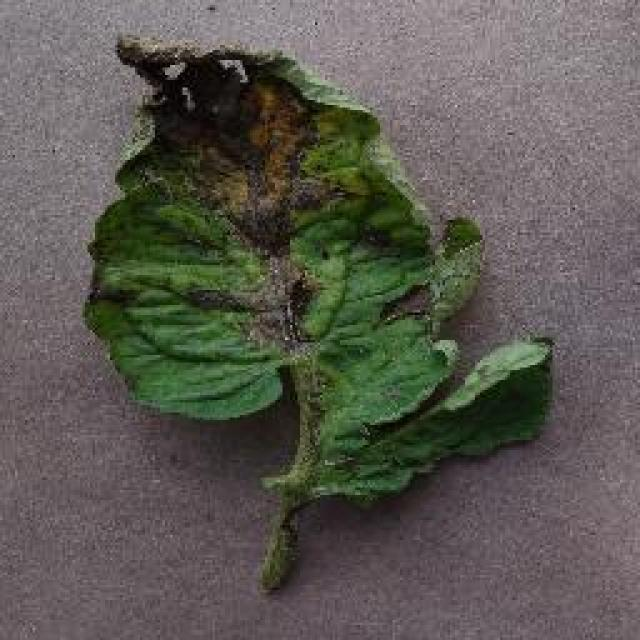Tomato Early blight leaf: (86, 38, 558, 510)
